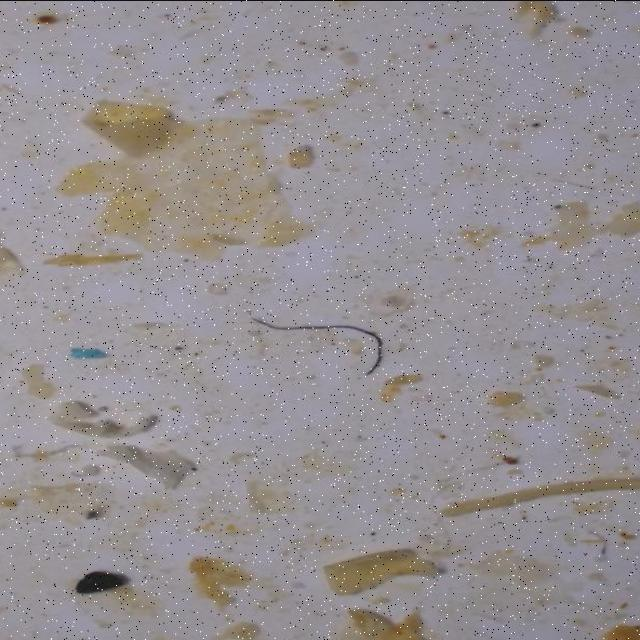Fibre: (240, 310, 390, 380)
Fragment: (72, 566, 130, 596), (64, 341, 108, 367)
